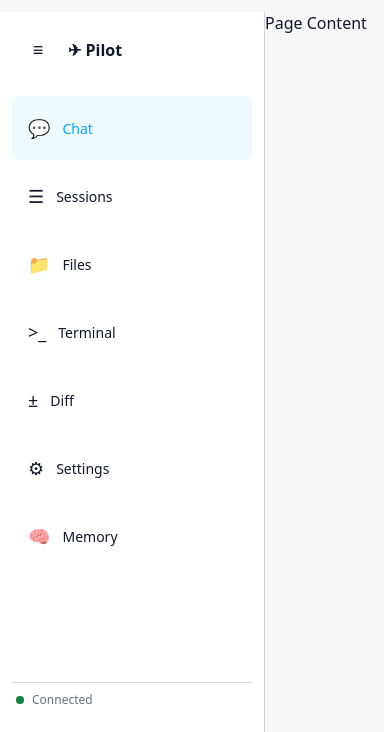
Scenario: Layout › collapsed sidebar hides Pilot branding
This screenshot has width=384, height=732.
Click the button named "Collapse sidebar" at x=38, y=50, box [16, 28, 60, 72]
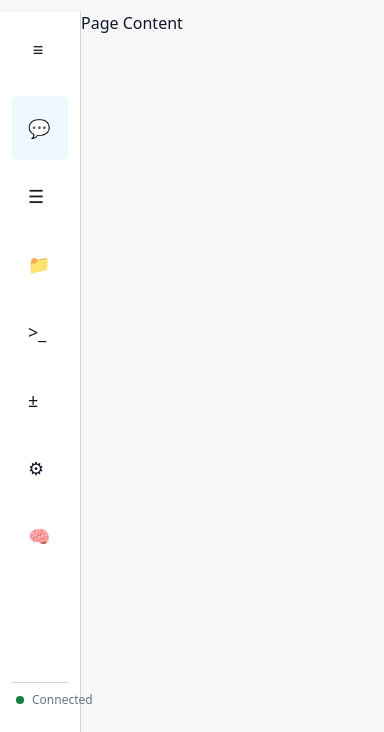
Now the text "✈ Pilot" is gone
